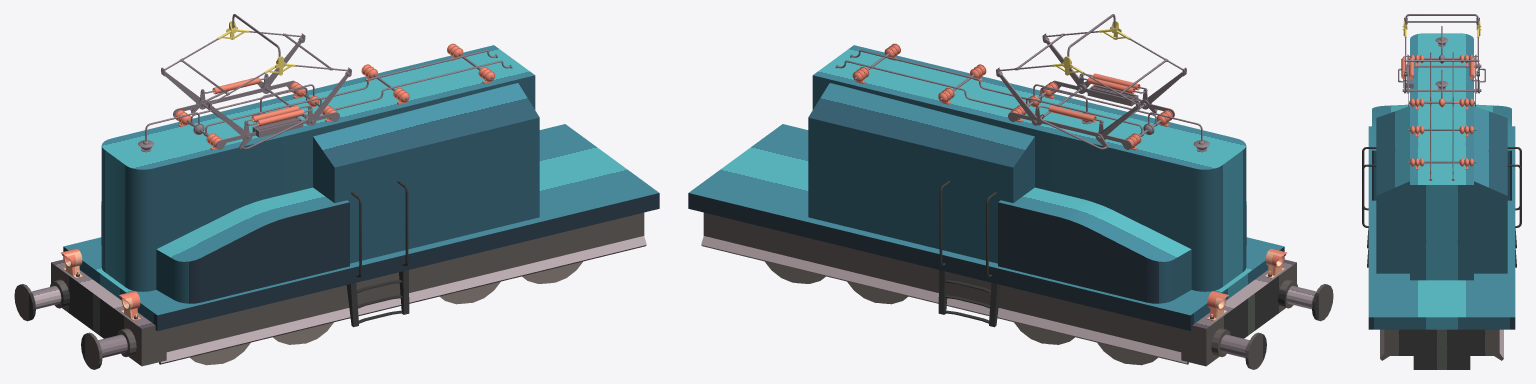
Rendered from train.glb.
The picture shows the model from 3 angles, left to right: view 1: azimuth 30°, elevation 25°; view 2: azimuth 150°, elevation 25°; view 3: azimuth 270°, elevation 25°; orthographic projection. The views are drawn at different scales.
Parts seen in each view (by area): view 1: Cube.001, Cube, e92.001, Circle.001, Cube.002, e92.002, e92.004; view 2: Cube.001, Cube, e92.001, Circle.001, Cube.002, e92.002, e92.004; view 3: Cube.001, Cube, e92.001, e92.004.
Part boxes in pixels (x1,y1,x2,y2): Cube.001: (63, 45, 659, 330); Cube: (14, 212, 646, 369); e92.001: (138, 14, 512, 152); Circle.001: (190, 261, 583, 365); Cube.002: (346, 270, 409, 327); e92.002: (61, 248, 140, 320); e92.004: (351, 180, 408, 277); Cube.001: (688, 45, 1284, 330); Cube: (701, 212, 1333, 369); e92.001: (835, 14, 1209, 152); Circle.001: (764, 261, 1157, 365); Cube.002: (938, 270, 1001, 327); e92.002: (1207, 248, 1286, 320); e92.004: (939, 180, 996, 277); Cube.001: (1368, 33, 1515, 329); Cube: (1380, 329, 1503, 369); e92.001: (1398, 14, 1485, 180); e92.004: (1362, 147, 1521, 227).
Size of the model in its own units: 15.55 by 8.03 by 4.98.
1 material, 1 textured.
